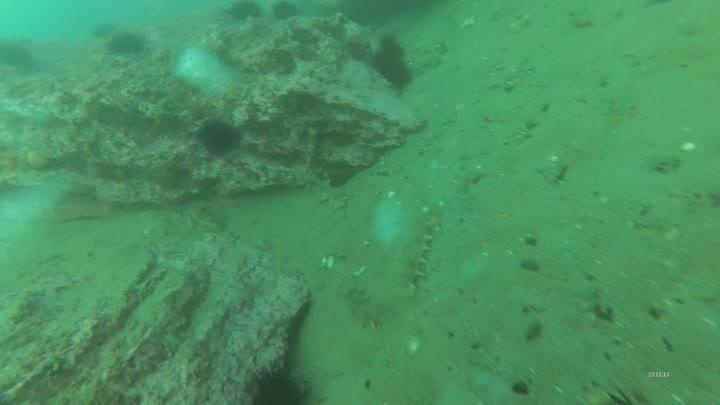echinus: (245, 362, 316, 405), (371, 33, 415, 92), (194, 116, 242, 158), (105, 29, 148, 59), (223, 1, 265, 25), (88, 16, 121, 41), (266, 1, 303, 20)
holothurian: (395, 210, 437, 300), (288, 163, 352, 210), (342, 280, 388, 332), (182, 207, 225, 234)
